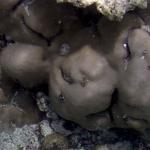alive: (1, 3, 149, 147)
